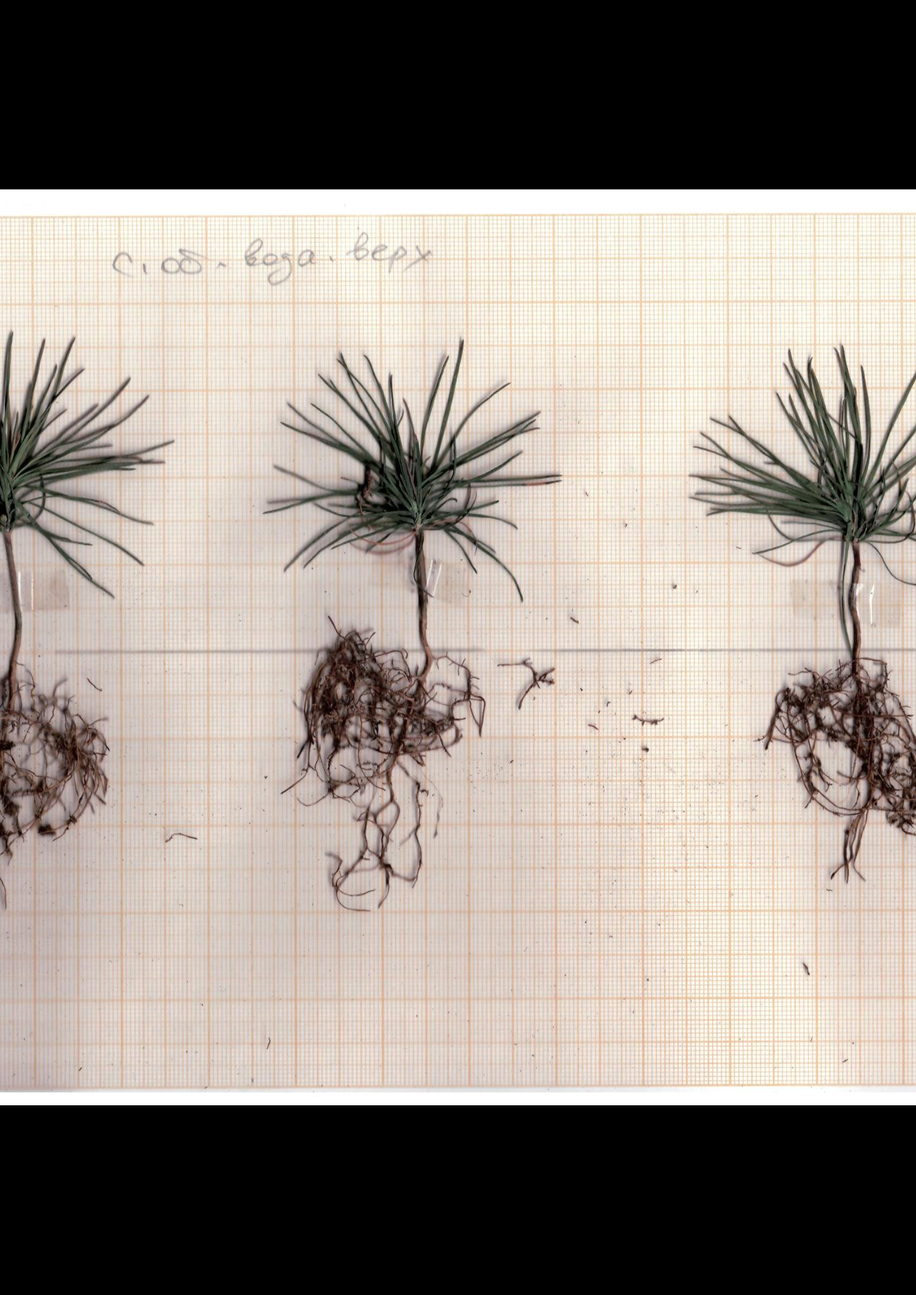cedr: (257, 332, 571, 918), (683, 327, 916, 892), (0, 321, 181, 911)
